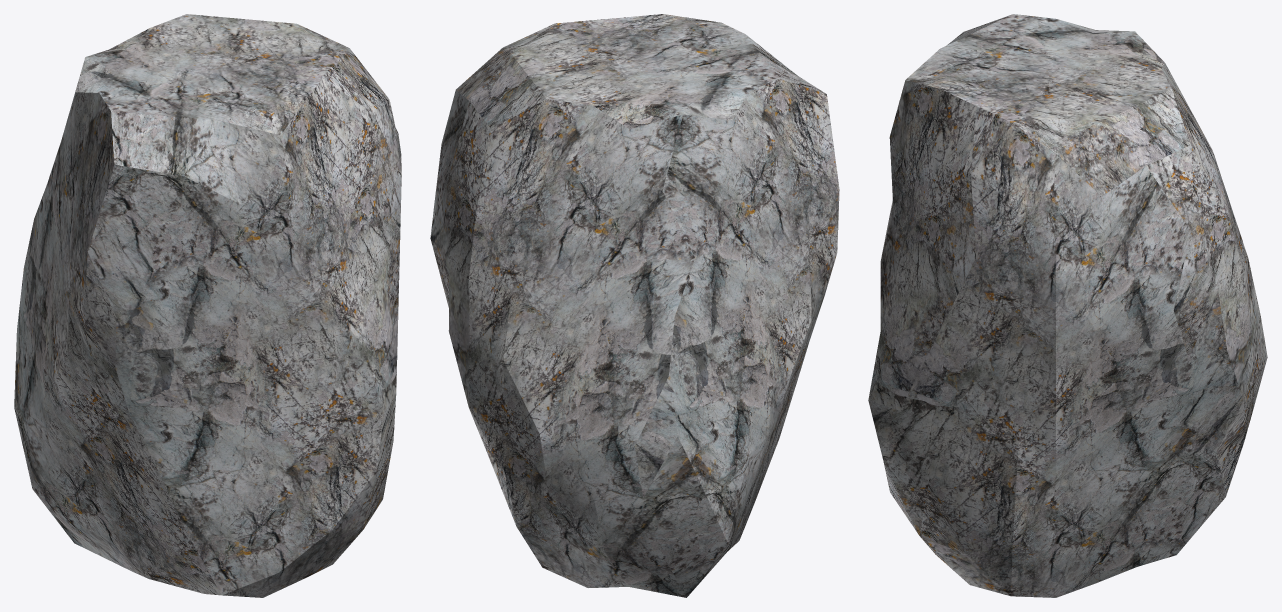
Rendered from granite_crag.gltf.
The picture shows the model from 3 angles, left to right: view 1: azimuth 30°, elevation 25°; view 2: azimuth 150°, elevation 25°; view 3: azimuth 270°, elevation 25°; orthographic projection. The views are drawn at different scales.
Visible parts, largest first — view 1: granite_crag; view 2: granite_crag; view 3: granite_crag.
Part boxes in pixels (x1,y1,x2,y2): granite_crag: [14, 14, 401, 597]; granite_crag: [430, 14, 839, 597]; granite_crag: [868, 14, 1267, 597].
Size of the model in its own units: 1.6 by 2.12 by 1.61.
1 material, 1 textured.
